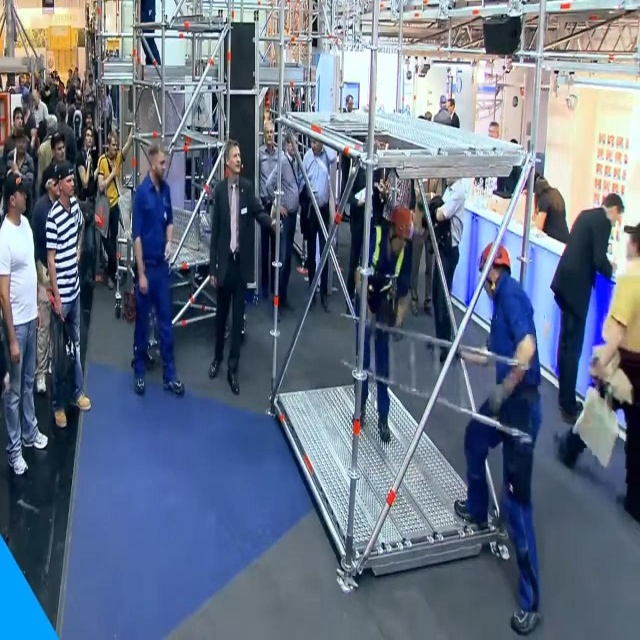Arnes_seguridad: (355, 225, 407, 325)
